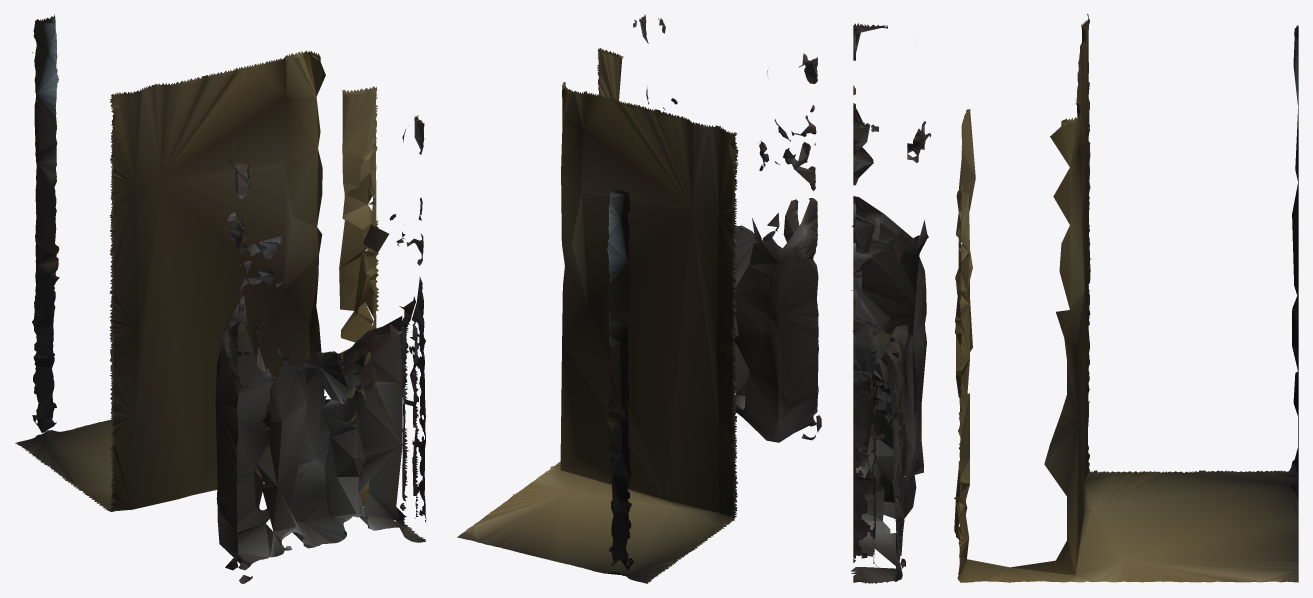
File: coarse.glb
3 views of the same model, side by side, from view 1: azimuth 30°, elevation 25°; view 2: azimuth 150°, elevation 25°; view 3: azimuth 270°, elevation 25° (orthographic). The views are drawn at different scales.
Bounding box in the file's own units: 0.8239 × 1.59 × 1.39.
